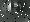person: (3, 1, 11, 14), (15, 3, 21, 13)
